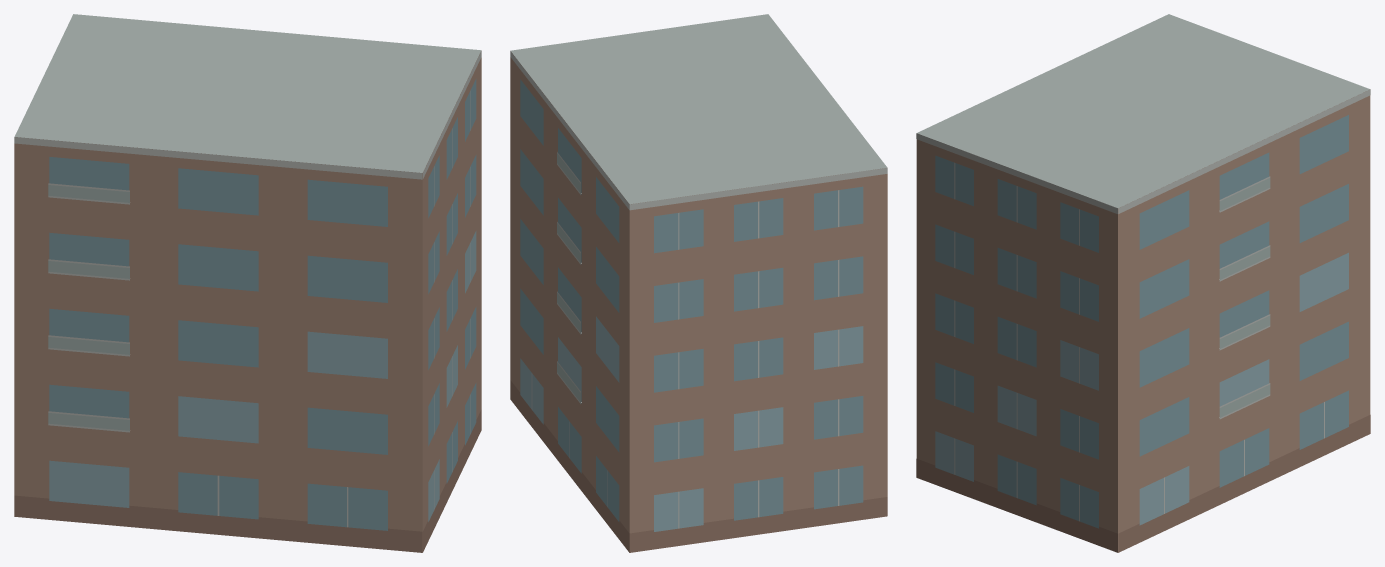
Rendered from survey-upis-32523460.glb.
The picture shows the model from 3 angles, left to right: view 1: azimuth 30°, elevation 25°; view 2: azimuth 150°, elevation 25°; view 3: azimuth 270°, elevation 25°; orthographic projection. The views are drawn at different scales.
Parts seen in each view (by area): view 1: survey-upis-32523460.tmp; view 2: survey-upis-32523460.tmp; view 3: survey-upis-32523460.tmp.
Part boxes in pixels (x1=…): survey-upis-32523460.tmp: x1=14, y1=14, x2=481, y2=552; survey-upis-32523460.tmp: x1=510, y1=14, x2=887, y2=552; survey-upis-32523460.tmp: x1=916, y1=14, x2=1370, y2=552.
Size of the model in its own units: 16.94 by 14 by 16.73.
